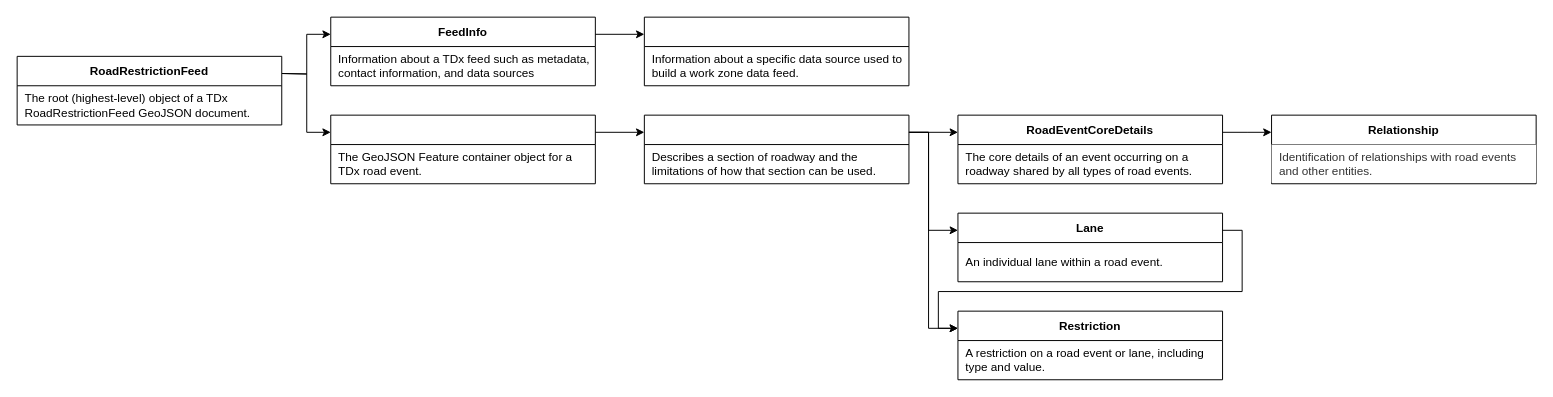
The diagram is 1553 pixels wide and 397 high, and some of its shapes have lost their labels. The shapes that lost their labels are listed below. From the top down, each one's box as (x1, y1, x2, y2) in pixels, then its label:
(643, 16, 909, 86): FeedDataSource
(330, 114, 595, 184): RoadEventFeature
(643, 114, 909, 184): RestrictionRoadEvent
